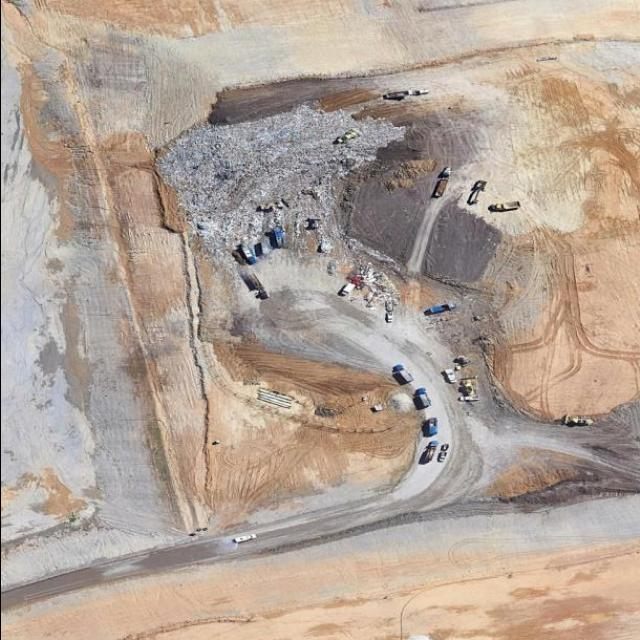dump_site: (143, 88, 454, 278), (308, 235, 433, 316)
